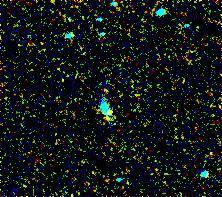star: (94, 96, 124, 126)
